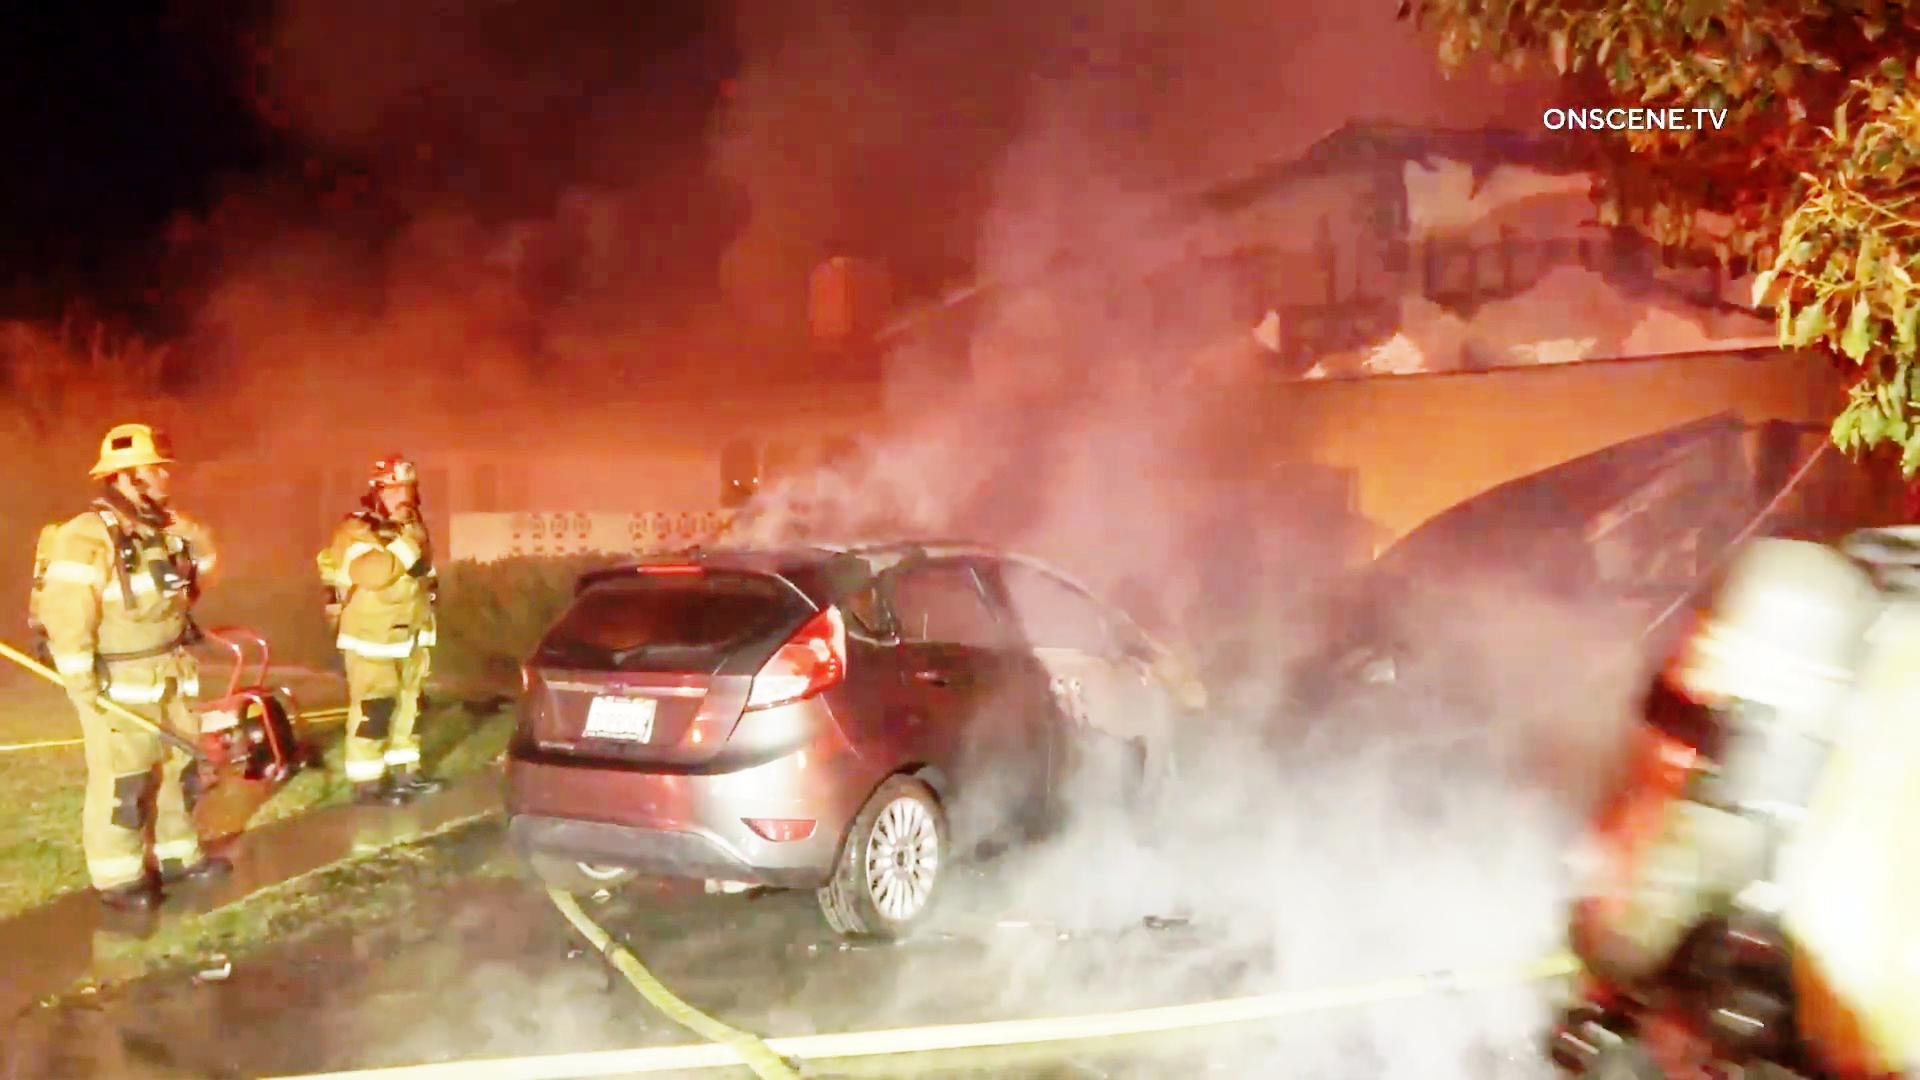smoke: (1065, 716, 1507, 947)
